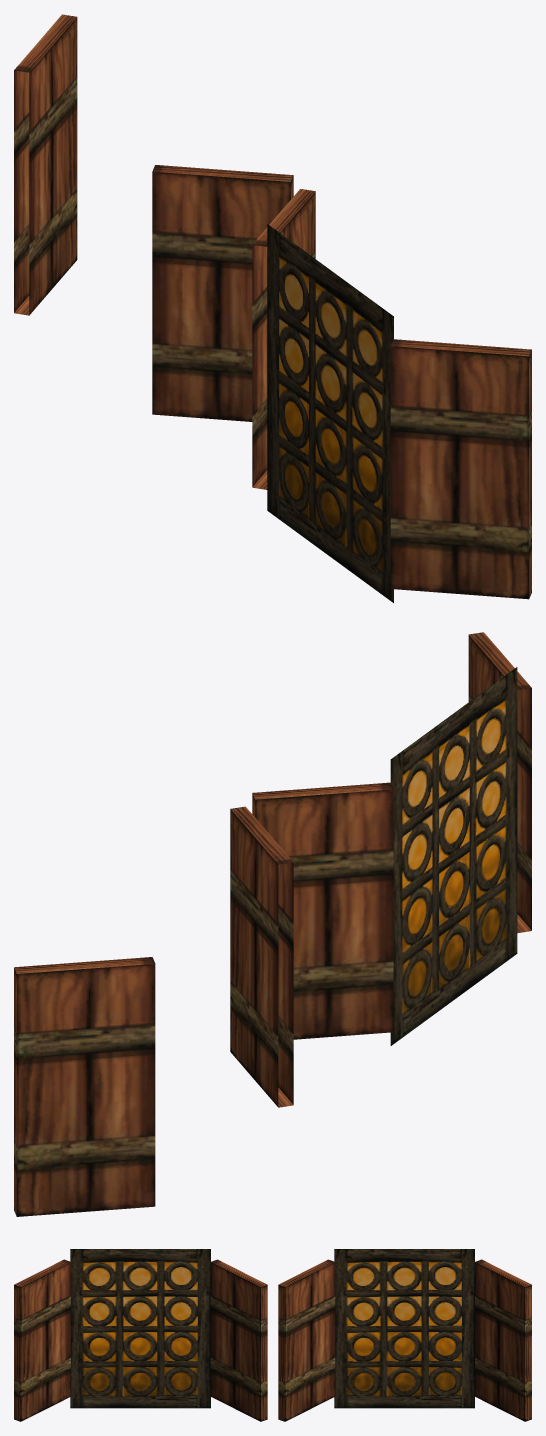
The model's file is LAKETOWN_EXTERIOR_PS_LT_ROUND_WINDOW1_08.fbx.
3 views of the same model, one above another, from view 1: azimuth 30°, elevation 25°; view 2: azimuth 150°, elevation 25°; view 3: azimuth 270°, elevation 25° (orthographic). The views are drawn at different scales.
Parts seen in each view (by area): view 1: LAKETOWN_EXTERIOR_PS_LT_ROUND_WINDOW1_08; view 2: LAKETOWN_EXTERIOR_PS_LT_ROUND_WINDOW1_08; view 3: LAKETOWN_EXTERIOR_PS_LT_ROUND_WINDOW1_08.
Part boxes in pixels (bbox=[...]): LAKETOWN_EXTERIOR_PS_LT_ROUND_WINDOW1_08: bbox=[14, 14, 531, 602]; LAKETOWN_EXTERIOR_PS_LT_ROUND_WINDOW1_08: bbox=[14, 632, 531, 1216]; LAKETOWN_EXTERIOR_PS_LT_ROUND_WINDOW1_08: bbox=[14, 1249, 531, 1421].
Size of the model in its own units: 5472 by 14646 by 43208.
Materials: 2 (2 with a texture image).
